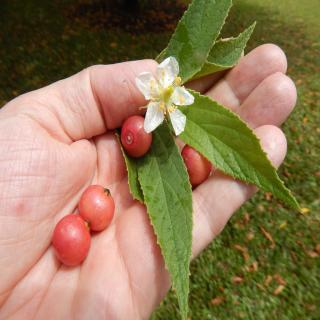tomato: (52, 214, 90, 266), (72, 184, 111, 230), (120, 115, 153, 158), (180, 144, 212, 185)
